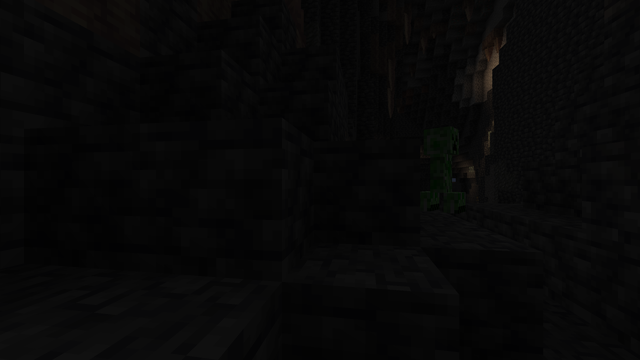creepers: (422, 122, 462, 212)
